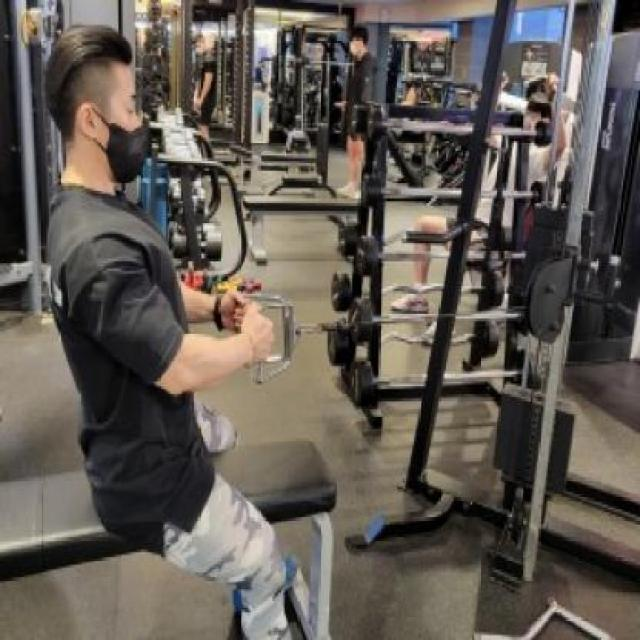Seated Cable Rows: (17, 11, 640, 640)
